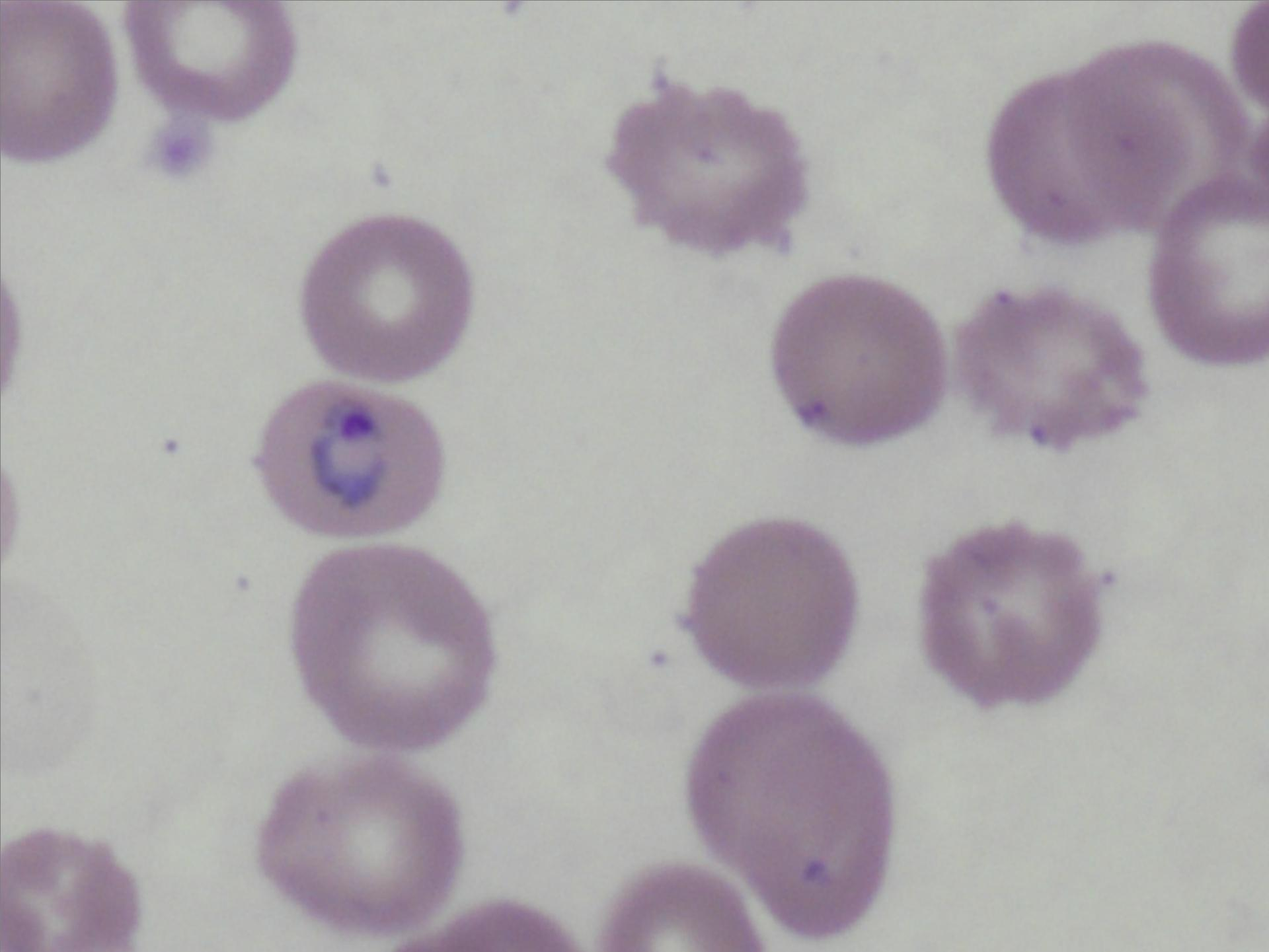Infected: (258, 382, 445, 541)
Uninfected: (690, 681, 894, 936), (293, 551, 495, 749), (608, 78, 812, 259), (262, 756, 467, 936), (1071, 36, 1248, 232), (919, 518, 1096, 710), (991, 76, 1181, 245), (771, 274, 946, 447), (690, 518, 856, 688), (961, 289, 1146, 441), (302, 221, 467, 386), (1154, 166, 1269, 366), (121, 0, 297, 118), (0, 0, 113, 163), (0, 831, 147, 952)
